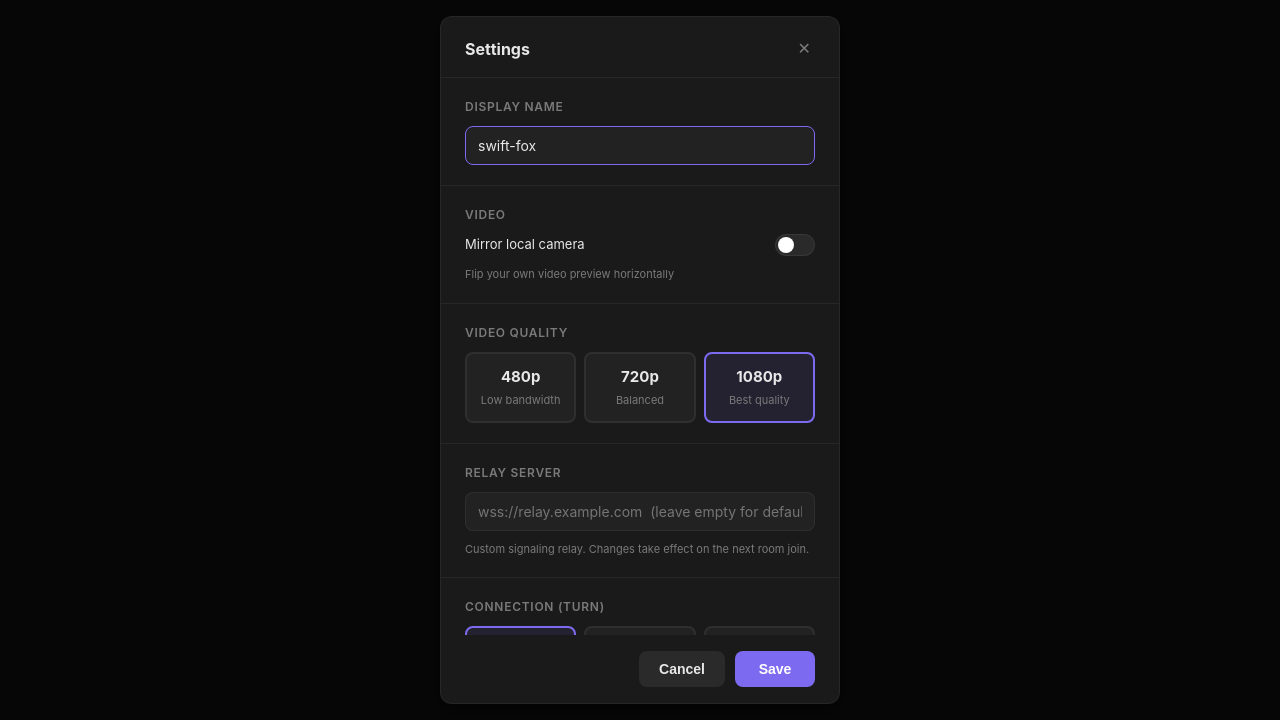
SettingsModal — validation › shows error if name is empty
The width and height of the screenshot is (1280, 720).
Step 1. Clear the field with placeholder "Your name" → (640, 146), box [465,126,815,165]
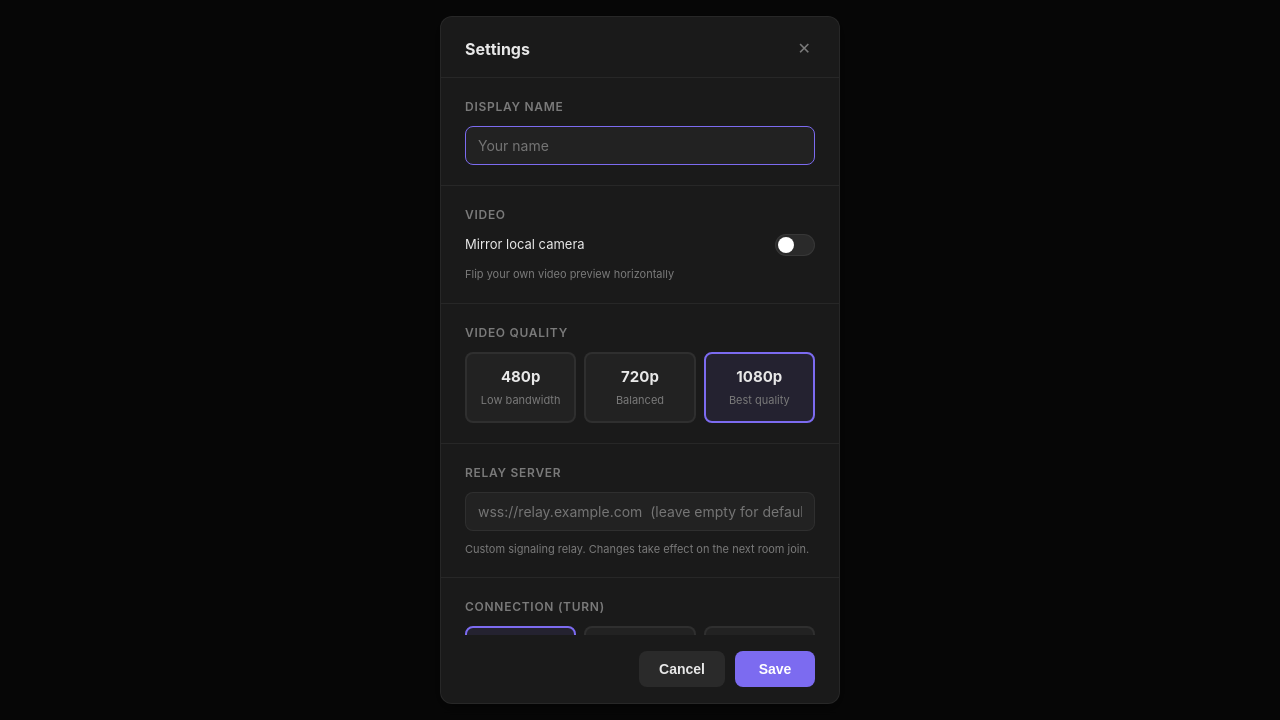
Step 2. Click the button "Save" → (775, 669), box [735,651,815,687]
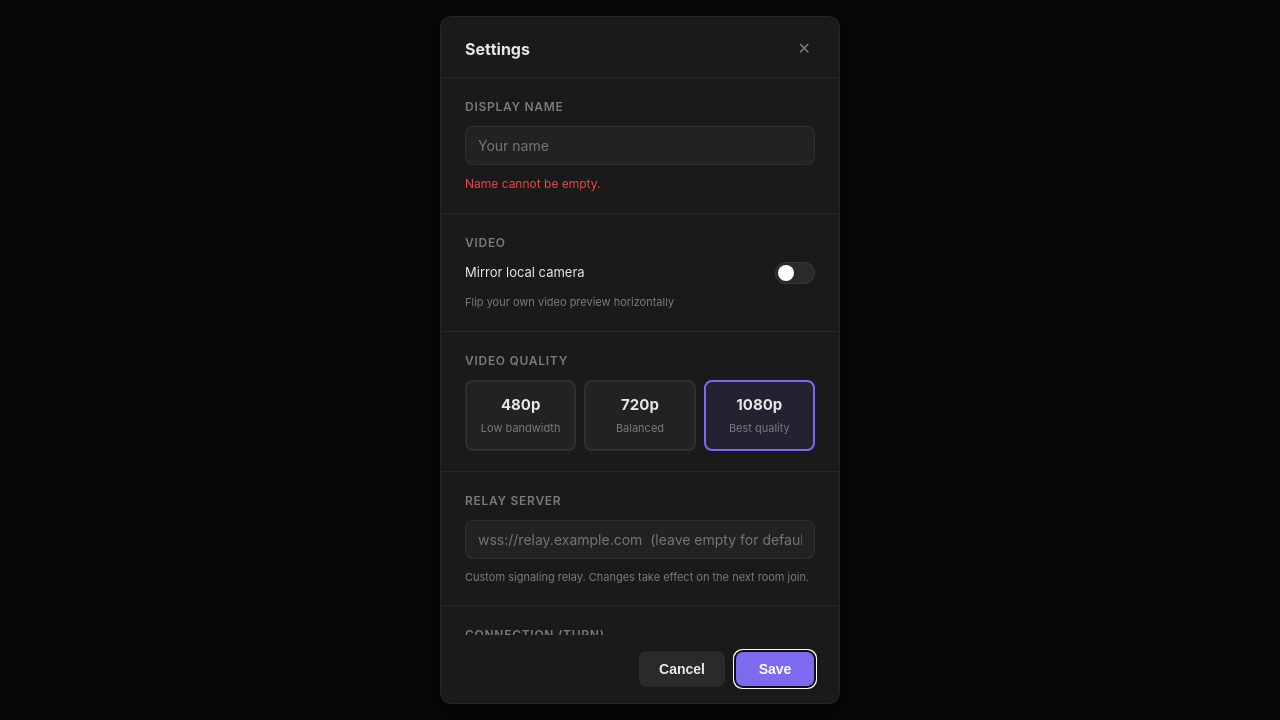
Expected: the text "Name cannot be empty." is shown, [465,176,600,191]
